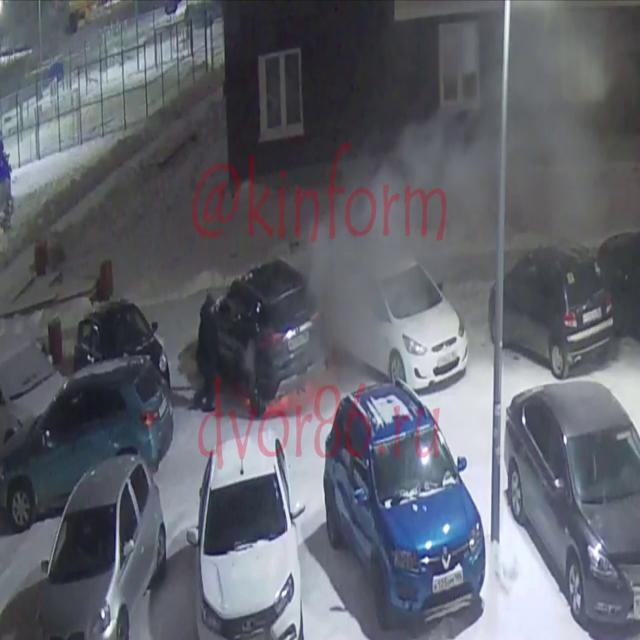Smoke: (228, 2, 640, 360)
